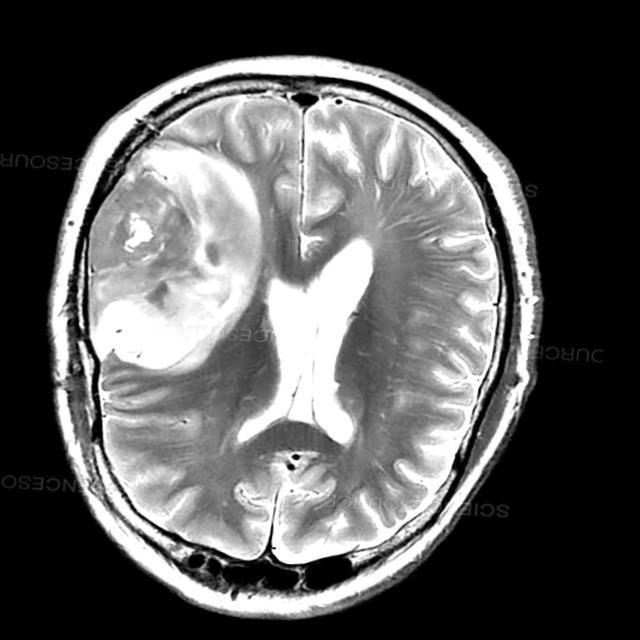Tumor: (93, 143, 266, 373)
